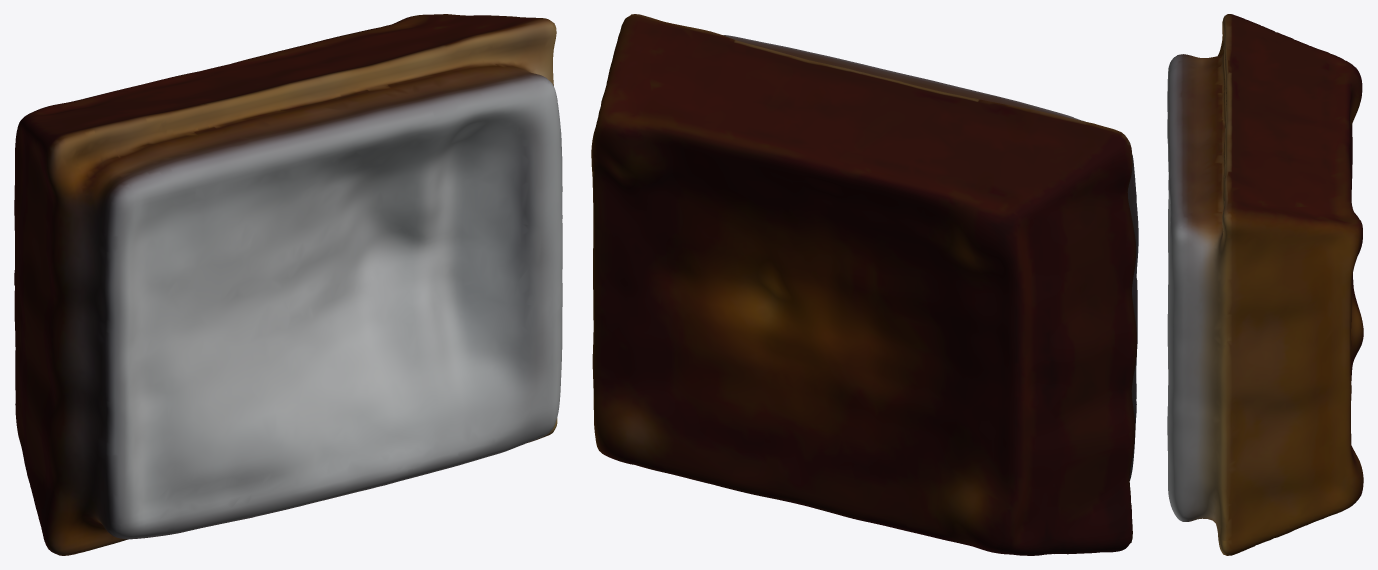
Rendered from soap.glb.
3 renders of one model, left to right at view 1: azimuth 30°, elevation 25°; view 2: azimuth 150°, elevation 25°; view 3: azimuth 270°, elevation 25°, orthographic. The views are drawn at different scales.
Size of the model in its own units: 0.9993 by 0.7895 by 0.4023.
